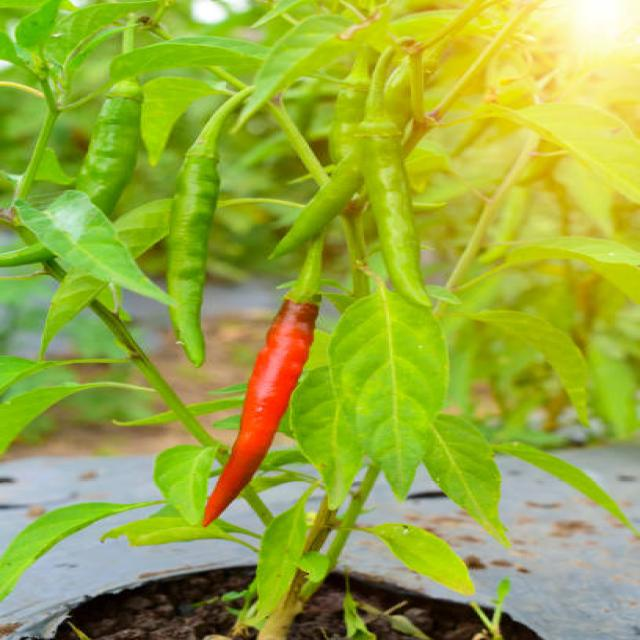Ripe: (202, 238, 322, 524)
Unripe: (167, 88, 250, 366), (360, 60, 431, 306), (274, 149, 364, 258), (77, 79, 142, 214), (0, 244, 54, 266)
